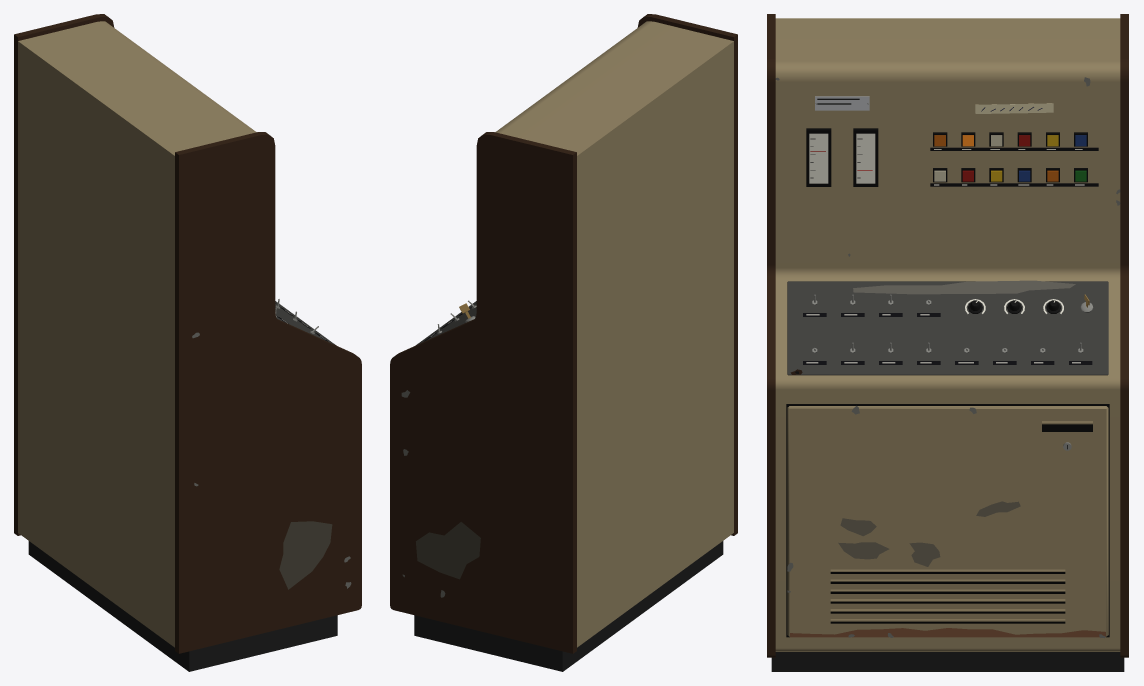
The model's file is mach_cabinet@2.glb.
3 views of the same model, side by side, from view 1: azimuth 30°, elevation 25°; view 2: azimuth 150°, elevation 25°; view 3: azimuth 270°, elevation 25° (orthographic). The views are drawn at different scales.
Parts seen in each view (by area): view 1: steuerpult0, steuerpult1, steuerpult2, steuerpult29; view 2: steuerpult0, steuerpult1, steuerpult2, steuerpult29; view 3: steuerpult0, steuerpult3, steuerpult1, steuerpult2, steuerpult11, steuerpult25, steuerpult6, steuerpult26, steuerpult4, steuerpult19, steuerpult27, steuerpult23 (+3 smaller).
Part boxes in pixels (x1=…): steuerpult0: x1=18, y1=21, x2=256, y2=647; steuerpult1: x1=14, y1=14, x2=361, y2=653; steuerpult2: x1=28, y1=541, x2=337, y2=671; steuerpult29: x1=279, y1=521, x2=332, y2=589; steuerpult0: x1=495, y1=21, x2=733, y2=647; steuerpult1: x1=390, y1=14, x2=737, y2=653; steuerpult2: x1=414, y1=541, x2=723, y2=671; steuerpult29: x1=416, y1=522, x2=480, y2=579; steuerpult0: x1=775, y1=18, x2=1120, y2=651; steuerpult3: x1=787, y1=281, x2=1108, y2=375; steuerpult1: x1=767, y1=14, x2=1128, y2=657; steuerpult2: x1=771, y1=652, x2=1124, y2=671; steuerpult11: x1=786, y1=128, x2=1109, y2=637; steuerpult25: x1=830, y1=445, x2=1067, y2=623; steuerpult6: x1=803, y1=147, x2=1098, y2=364; steuerpult26: x1=790, y1=628, x2=1105, y2=637; steuerpult4: x1=853, y1=280, x2=1075, y2=294; steuerpult19: x1=809, y1=133, x2=875, y2=183; steuerpult27: x1=838, y1=501, x2=1020, y2=566; steuerpult23: x1=975, y1=103, x2=1053, y2=113.
Size of the model in its own units: 0.6 by 1.61 by 0.9282.
